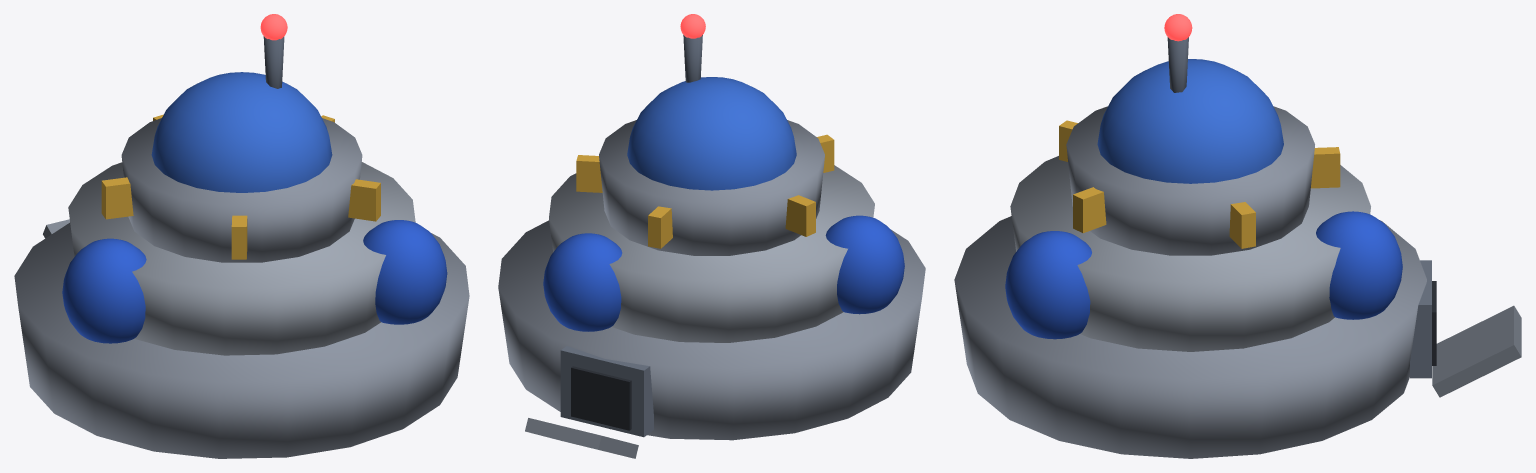
File: b_command_center.glb
3 renders of one model, left to right at view 1: azimuth 30°, elevation 25°; view 2: azimuth 150°, elevation 25°; view 3: azimuth 270°, elevation 25°, orthographic. The views are drawn at different scales.
Parts seen in each view (by area): view 1: cc_t0.001, cc_t1.001, cc_t2.001, cc_dome.001, cc_pod1.001, cc_pod2.001, cc_gold4.001, cc_gold2.001, cc_ant.001, cc_gold3.001, cc_anttip.001; view 2: cc_t0.001, cc_t1.001, cc_dome.001, cc_t2.001, cc_pod0.001, cc_pod1.001, cc_doorf.001, cc_door.001, cc_ramp.001, cc_gold2.001, cc_gold0.001, cc_gold1.001 (+3 smaller); view 3: cc_t0.001, cc_t1.001, cc_t2.001, cc_dome.001, cc_pod2.001, cc_pod0.001, cc_ramp.001, cc_doorf.001, cc_gold4.001, cc_gold1.001, cc_gold0.001, cc_ant.001 (+1 smaller).
Boxes of the visible parts, left/top/right/bottom form: cc_t0.001: left=14, top=222, right=469, bottom=458; cc_t1.001: left=68, top=162, right=415, bottom=355; cc_t2.001: left=121, top=118, right=362, bottom=262; cc_dome.001: left=151, top=72, right=332, bottom=192; cc_pod1.001: left=62, top=238, right=146, bottom=343; cc_pod2.001: left=363, top=220, right=447, bottom=324; cc_gold4.001: left=348, top=179, right=380, bottom=221; cc_gold2.001: left=101, top=177, right=133, bottom=219; cc_ant.001: left=263, top=36, right=284, bottom=88; cc_gold3.001: left=231, top=215, right=247, bottom=259; cc_anttip.001: left=260, top=14, right=287, bottom=40; cc_t0.001: left=498, top=220, right=925, bottom=440; cc_t1.001: left=549, top=165, right=874, bottom=342; cc_dome.001: left=627, top=77, right=796, bottom=190; cc_t2.001: left=599, top=120, right=824, bottom=255; cc_pod0.001: left=543, top=233, right=622, bottom=331; cc_pod1.001: left=825, top=215, right=904, bottom=314; cc_doorf.001: left=560, top=346, right=653, bottom=437; cc_door.001: left=571, top=366, right=631, bottom=430; cc_ramp.001: left=525, top=418, right=638, bottom=458; cc_gold2.001: left=785, top=195, right=815, bottom=236; cc_gold0.001: left=576, top=155, right=602, bottom=192; cc_gold1.001: left=648, top=206, right=672, bottom=248; cc_t0.001: left=954, top=216, right=1426, bottom=458; cc_t1.001: left=1010, top=156, right=1370, bottom=351; cc_t2.001: left=1066, top=106, right=1314, bottom=255; cc_dome.001: left=1097, top=59, right=1283, bottom=183; cc_pod2.001: left=1005, top=231, right=1091, bottom=339; cc_pod0.001: left=1316, top=211, right=1402, bottom=319; cc_ramp.001: left=1432, top=305, right=1521, bottom=397; cc_doorf.001: left=1410, top=260, right=1431, bottom=378; cc_gold4.001: left=1073, top=187, right=1106, bottom=233; cc_gold1.001: left=1310, top=147, right=1340, bottom=188; cc_gold0.001: left=1229, top=202, right=1255, bottom=248; cc_ant.001: left=1167, top=37, right=1188, bottom=92.
Bounding box in the file's own units: 1.52 × 1.33 × 1.82.
